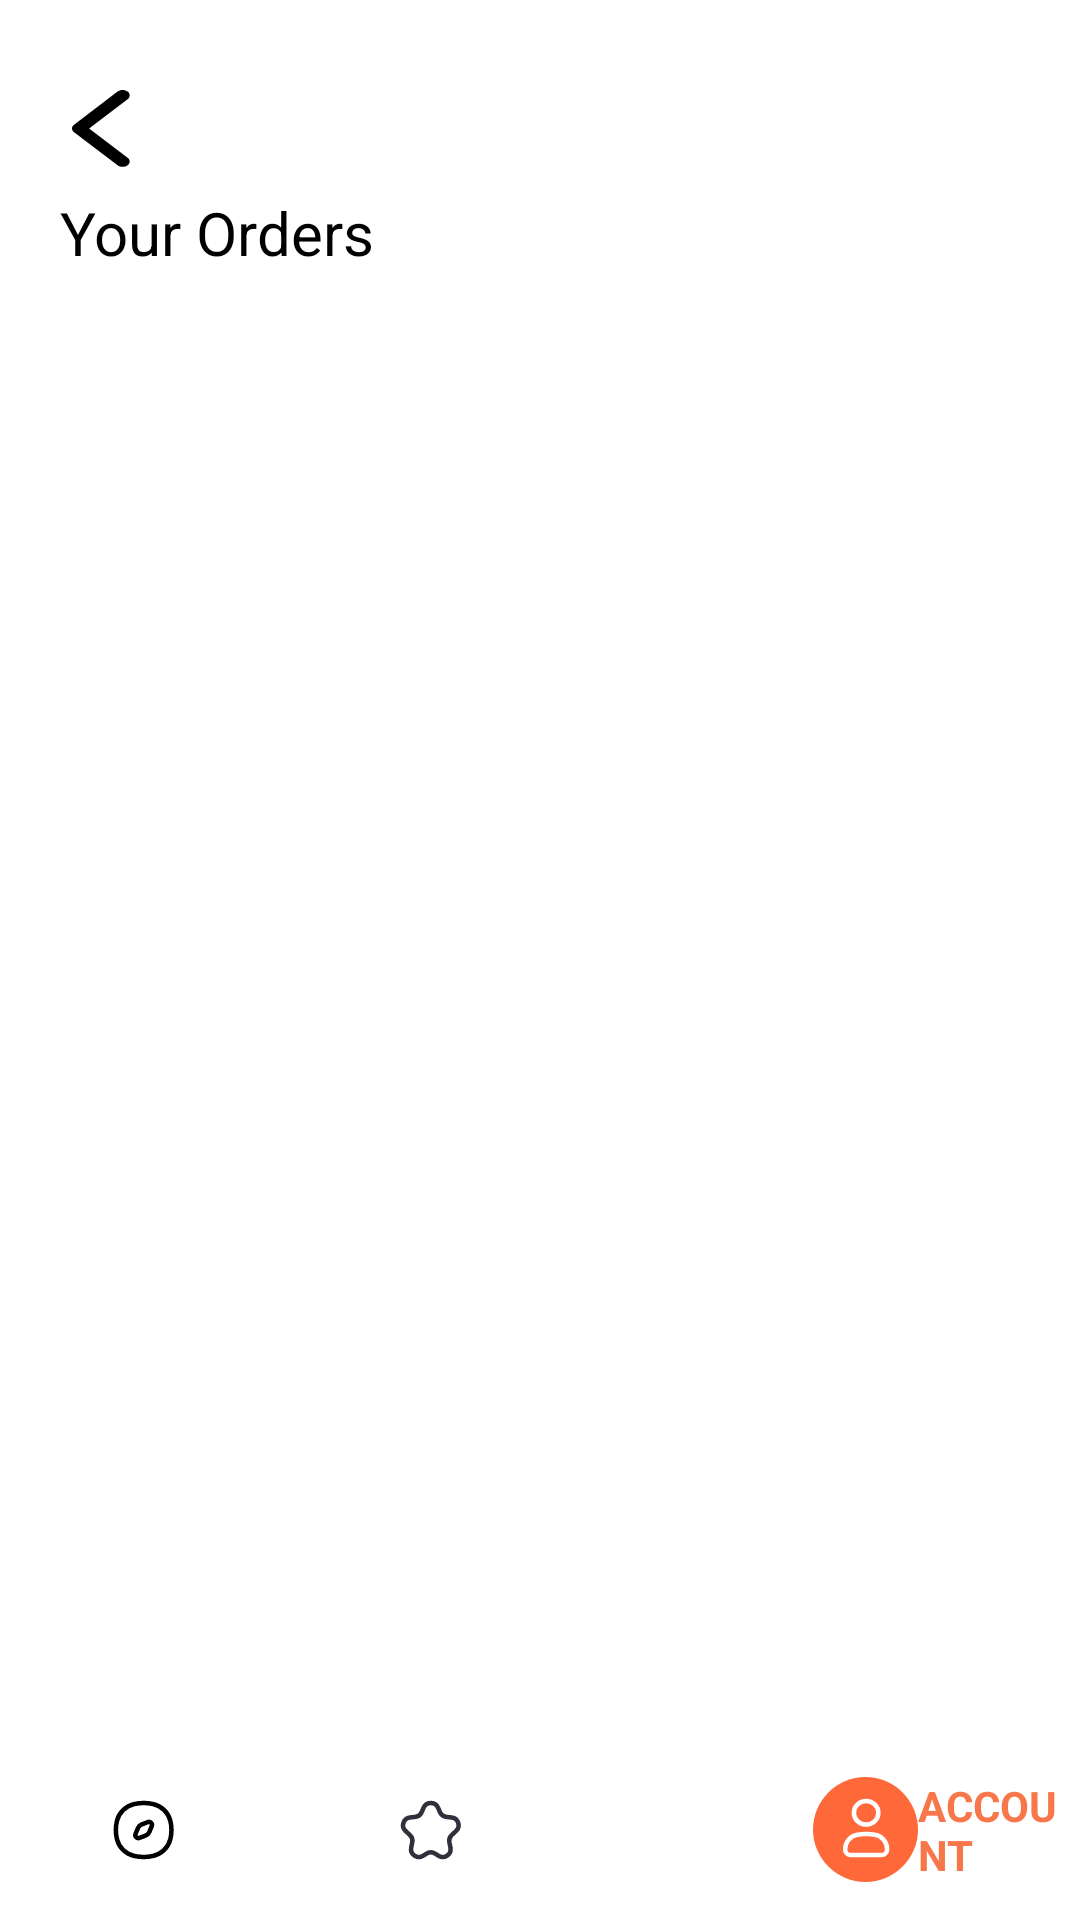

Screen size 1080x1920. Icon name, then its center in pixels as point (x, y):
discovery: point (143, 1830)
favorites: point (430, 1830)
